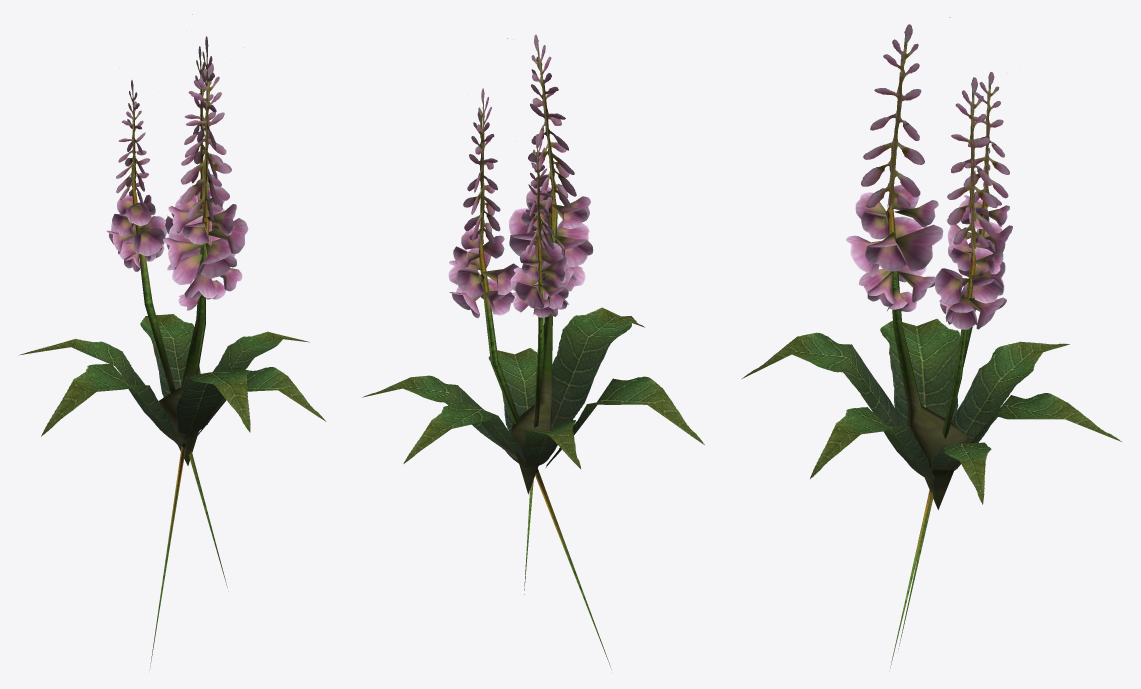
File: wm_洋地黄01.fbx
3 renders of one model, left to right at view 1: azimuth 30°, elevation 25°; view 2: azimuth 150°, elevation 25°; view 3: azimuth 270°, elevation 25°, orthographic. The views are drawn at different scales.
Visible parts, largest first — view 1: wm_洋地黄01; view 2: wm_洋地黄01; view 3: wm_洋地黄01.
Part boxes in pixels (x1=…): wm_洋地黄01: x1=19, y1=14, x2=326, y2=670; wm_洋地黄01: x1=362, y1=34, x2=704, y2=669; wm_洋地黄01: x1=742, y1=17, x2=1121, y2=668.
Size of the model in its own units: 130 by 250 by 127.
